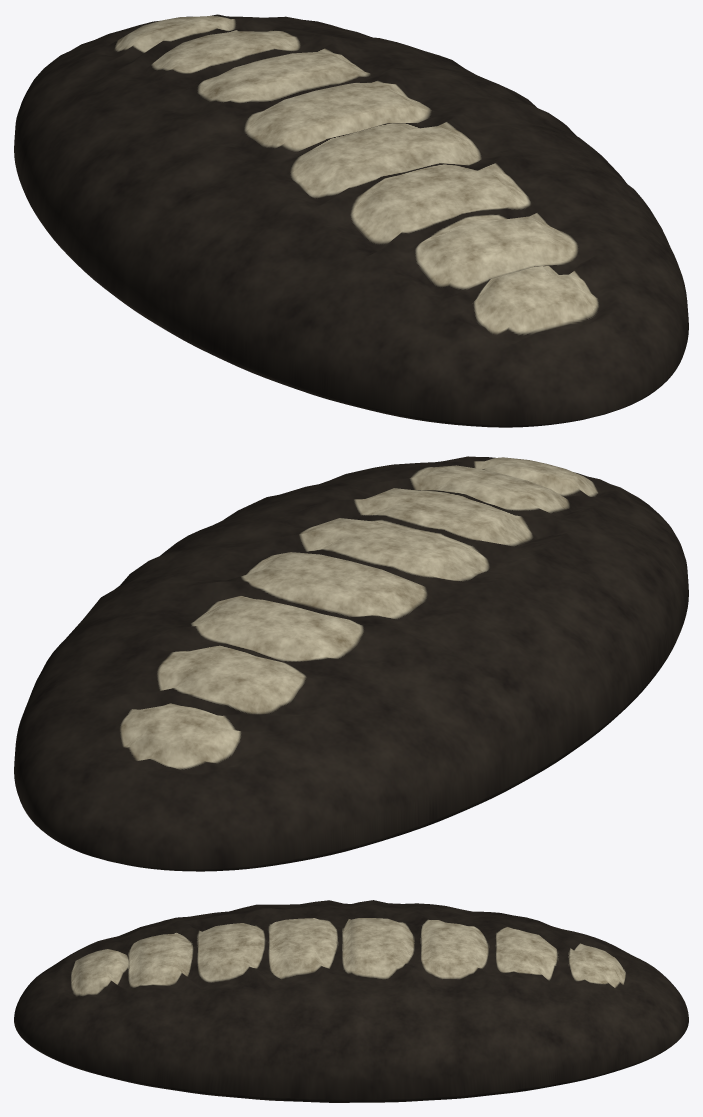
3 views of the same model, one above another, from view 1: azimuth 30°, elevation 25°; view 2: azimuth 150°, elevation 25°; view 3: azimuth 270°, elevation 25° (orthographic). The views are drawn at different scales.
Parts seen in each view (by area): view 1: NEW658_Katharina_tunicata_single_closed_body; view 2: NEW658_Katharina_tunicata_single_closed_body; view 3: NEW658_Katharina_tunicata_single_closed_body.
Boxes of the visible parts, <box> form: NEW658_Katharina_tunicata_single_closed_body: <box>14,14,688,427</box>; NEW658_Katharina_tunicata_single_closed_body: <box>14,456,688,871</box>; NEW658_Katharina_tunicata_single_closed_body: <box>14,900,688,1102</box>.
Size of the model in its own units: 0.05 by 0.016 by 0.09.
1 material, 1 textured.
